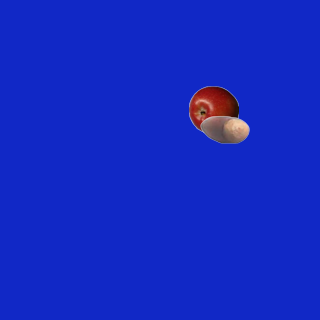Apple Braeburn: (188, 85, 238, 135)
Hazelnut: (199, 104, 249, 154)
